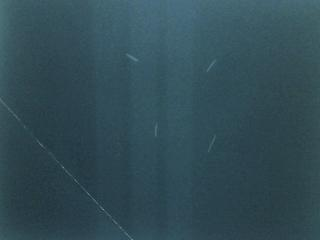crack: (0, 98, 132, 240)
scratch: (201, 53, 223, 80), (202, 128, 220, 160), (121, 47, 144, 69), (148, 120, 165, 140)
